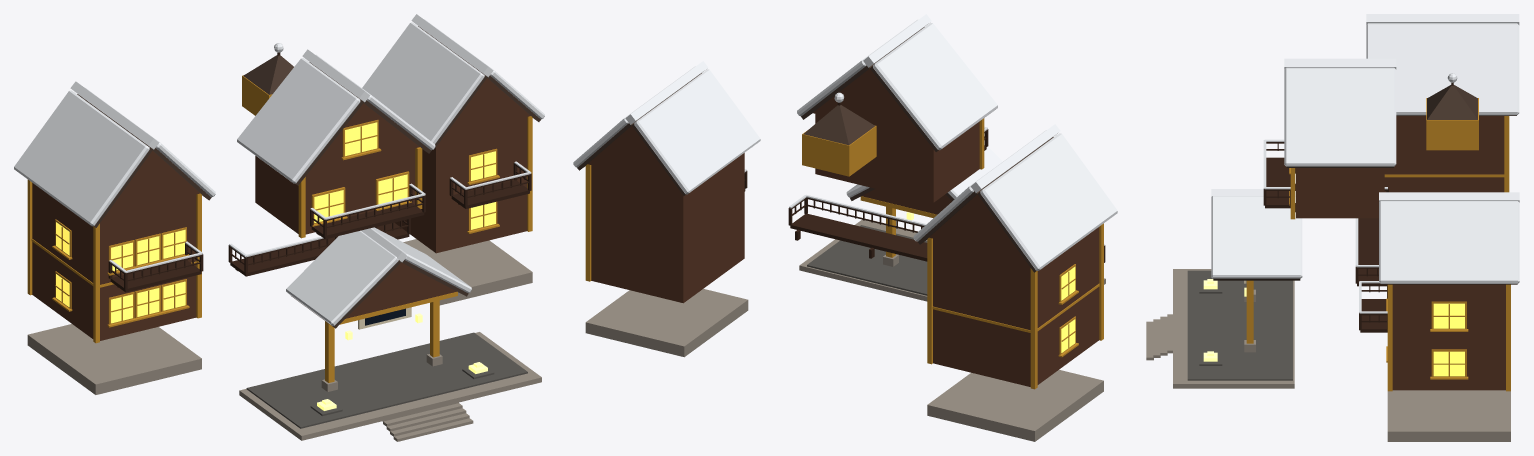
File: lodge-annex-3-chalet70s.glb
3 renders of one model, left to right at view 1: azimuth 30°, elevation 25°; view 2: azimuth 150°, elevation 25°; view 3: azimuth 270°, elevation 25°, orthographic. The views are drawn at different scales.
Visible parts, largest first — view 1: lodge-annex-3-chalet70s; view 2: lodge-annex-3-chalet70s; view 3: lodge-annex-3-chalet70s.
Boxes of the visible parts, x1,y1,x2,y2 form: lodge-annex-3-chalet70s: (14, 14, 544, 441); lodge-annex-3-chalet70s: (573, 14, 1117, 441); lodge-annex-3-chalet70s: (1146, 14, 1519, 441).
Bounding box in the file's own units: 31.65 × 19.02 × 22.68.
